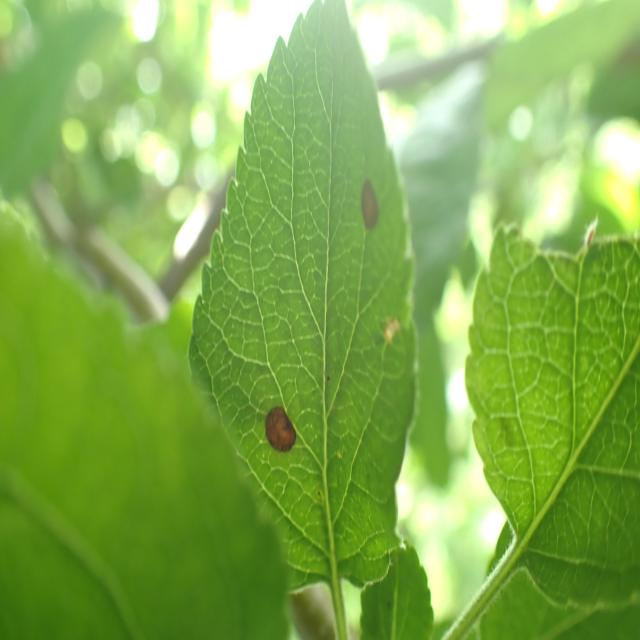Black Rot: (350, 154, 387, 246), (251, 400, 302, 464), (377, 309, 405, 362)
